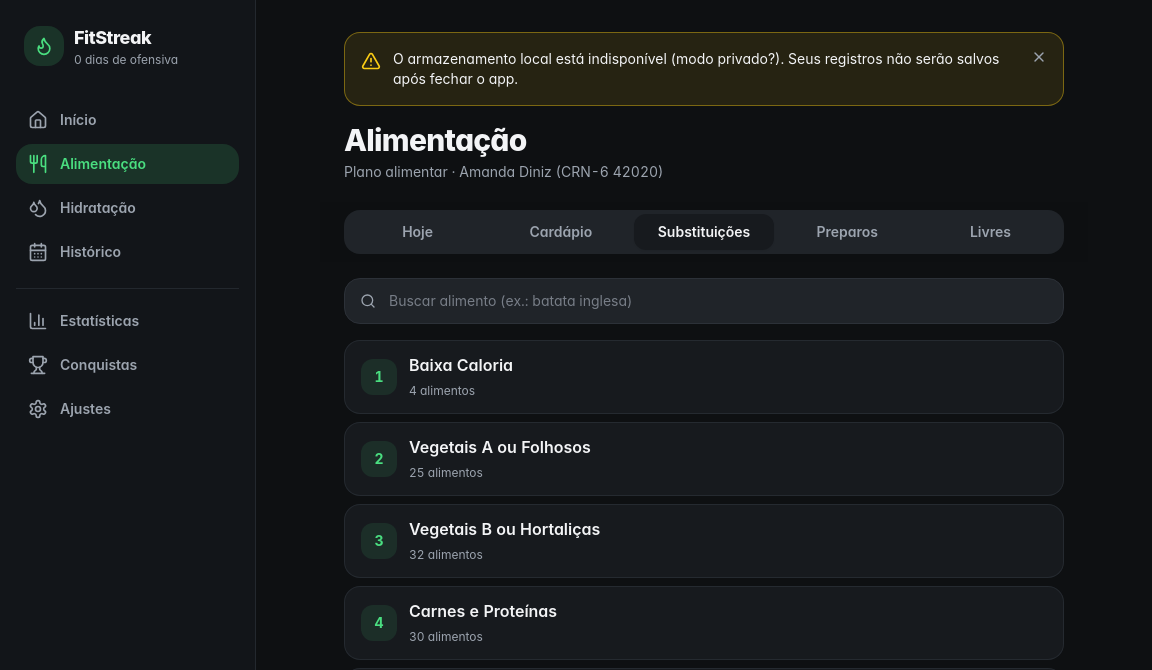
fluxos principais › busca alimento na lista de substituições
In the search field labelled "Buscar alimento (ex.: batata inglesa)": (704, 301) [344,278,1064,324], type "batata inglesa"
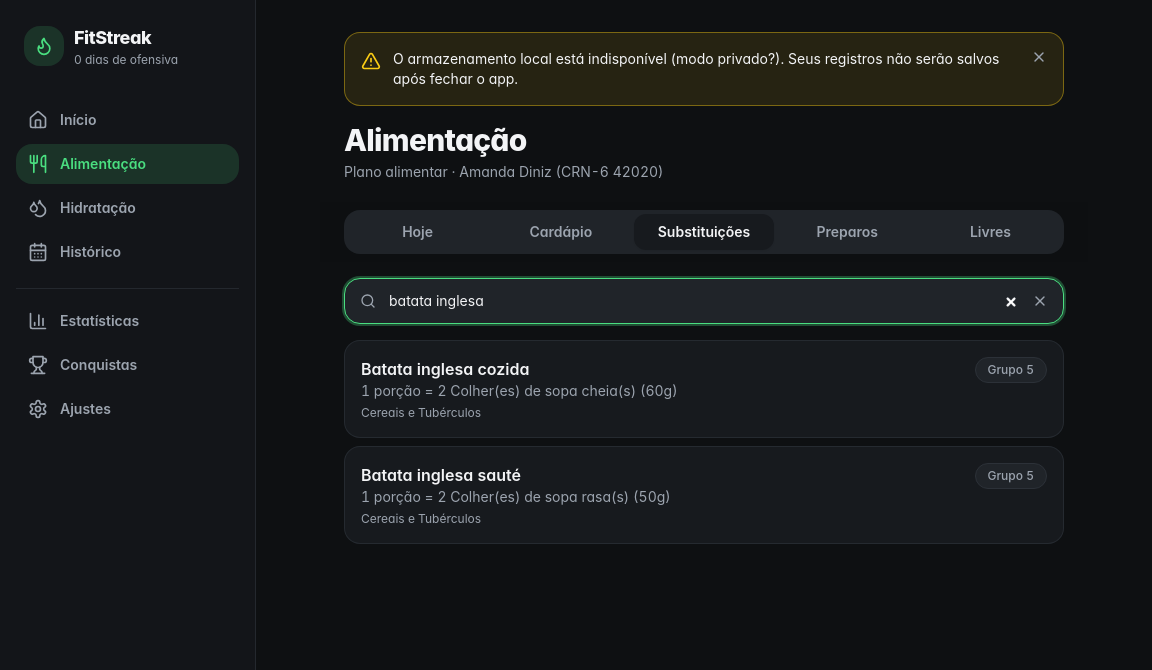
Result: the text "Batata inglesa cozida" is shown at [361,359,530,379]
Result: the text "Batata inglesa sauté" is shown at [361,465,521,485]
Result: the button "Grupo 5" in the row of "Batata inglesa cozida" is shown at [974,357,1047,383]
